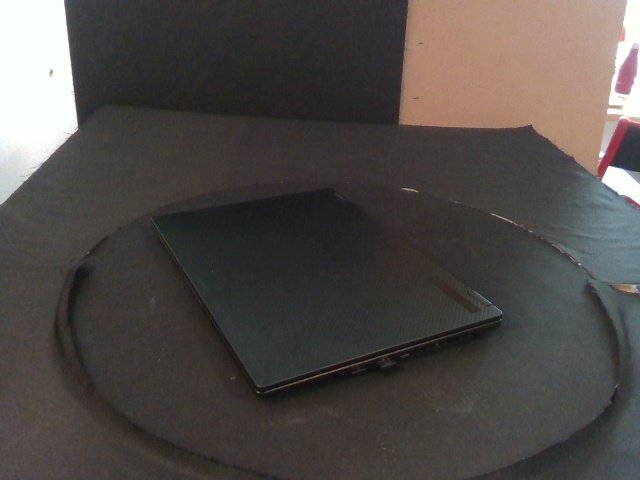laptop: (149, 188, 505, 399)
